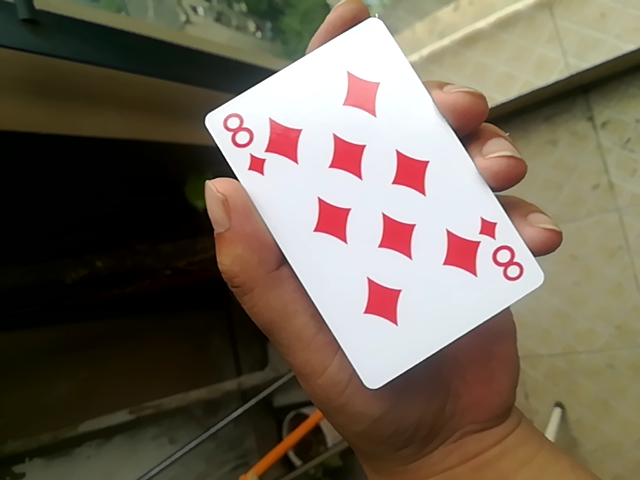fk 8: (200, 11, 543, 401)
